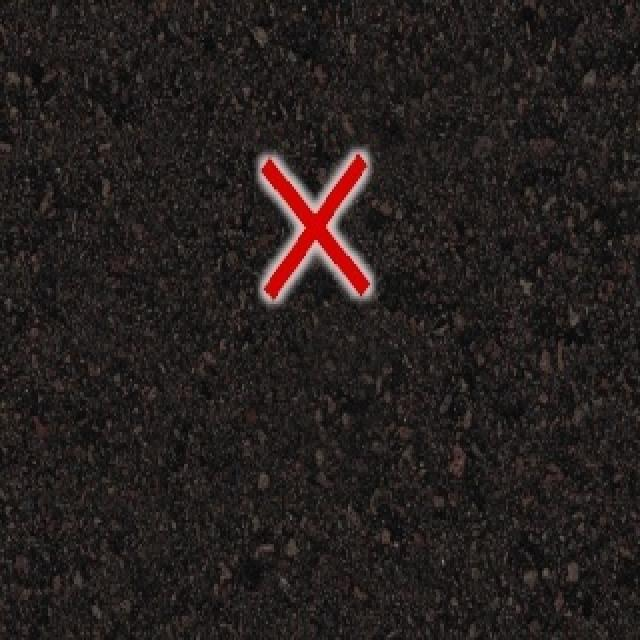x_marker: (261, 154, 369, 298)
